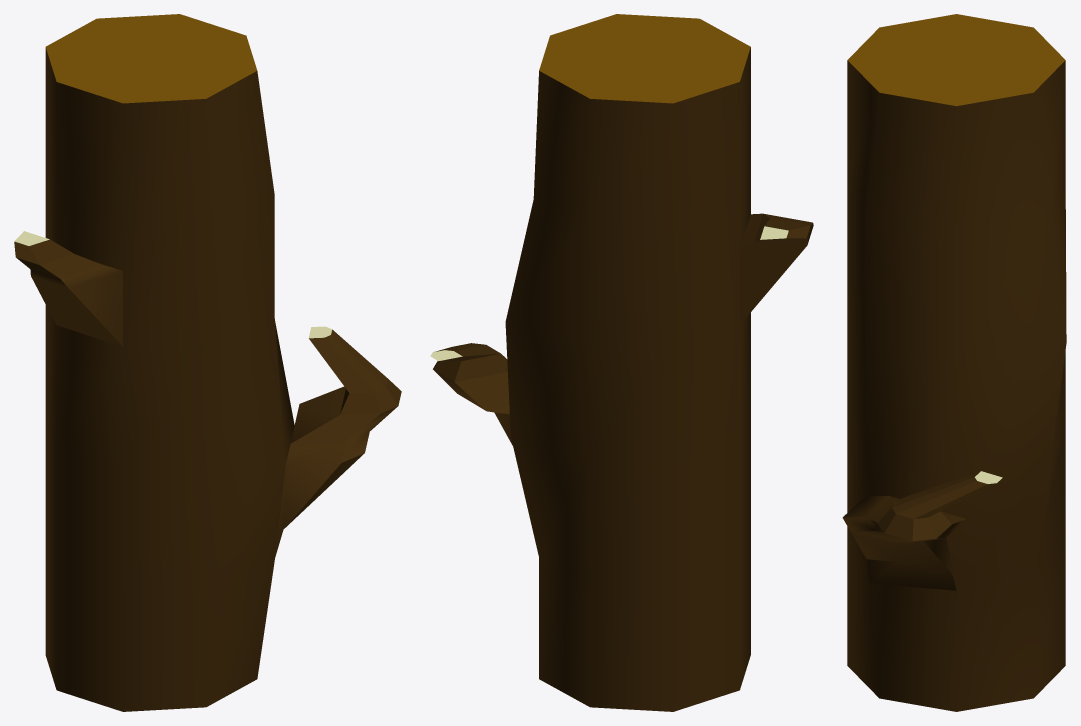
The model's file is Log3.fbx.
The picture shows the model from 3 angles, left to right: view 1: azimuth 30°, elevation 25°; view 2: azimuth 150°, elevation 25°; view 3: azimuth 270°, elevation 25°; orthographic projection.
Parts seen in each view (by area): view 1: pCylinder60; view 2: pCylinder60; view 3: pCylinder60.
Part boxes in pixels (x1,y1,x2,y2): pCylinder60: (14,14,401,711); pCylinder60: (430,14,813,711); pCylinder60: (842,14,1066,711).
Size of the model in its own units: 1.59 by 2.45 by 0.8214.
